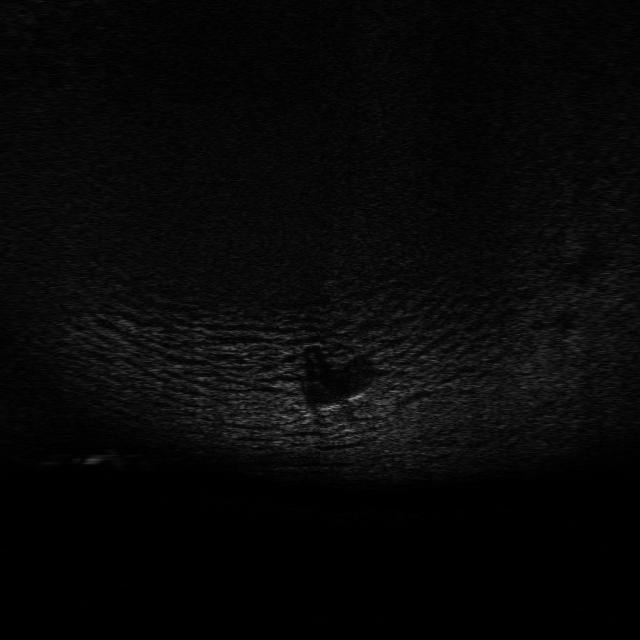plane: (297, 389, 367, 422)
